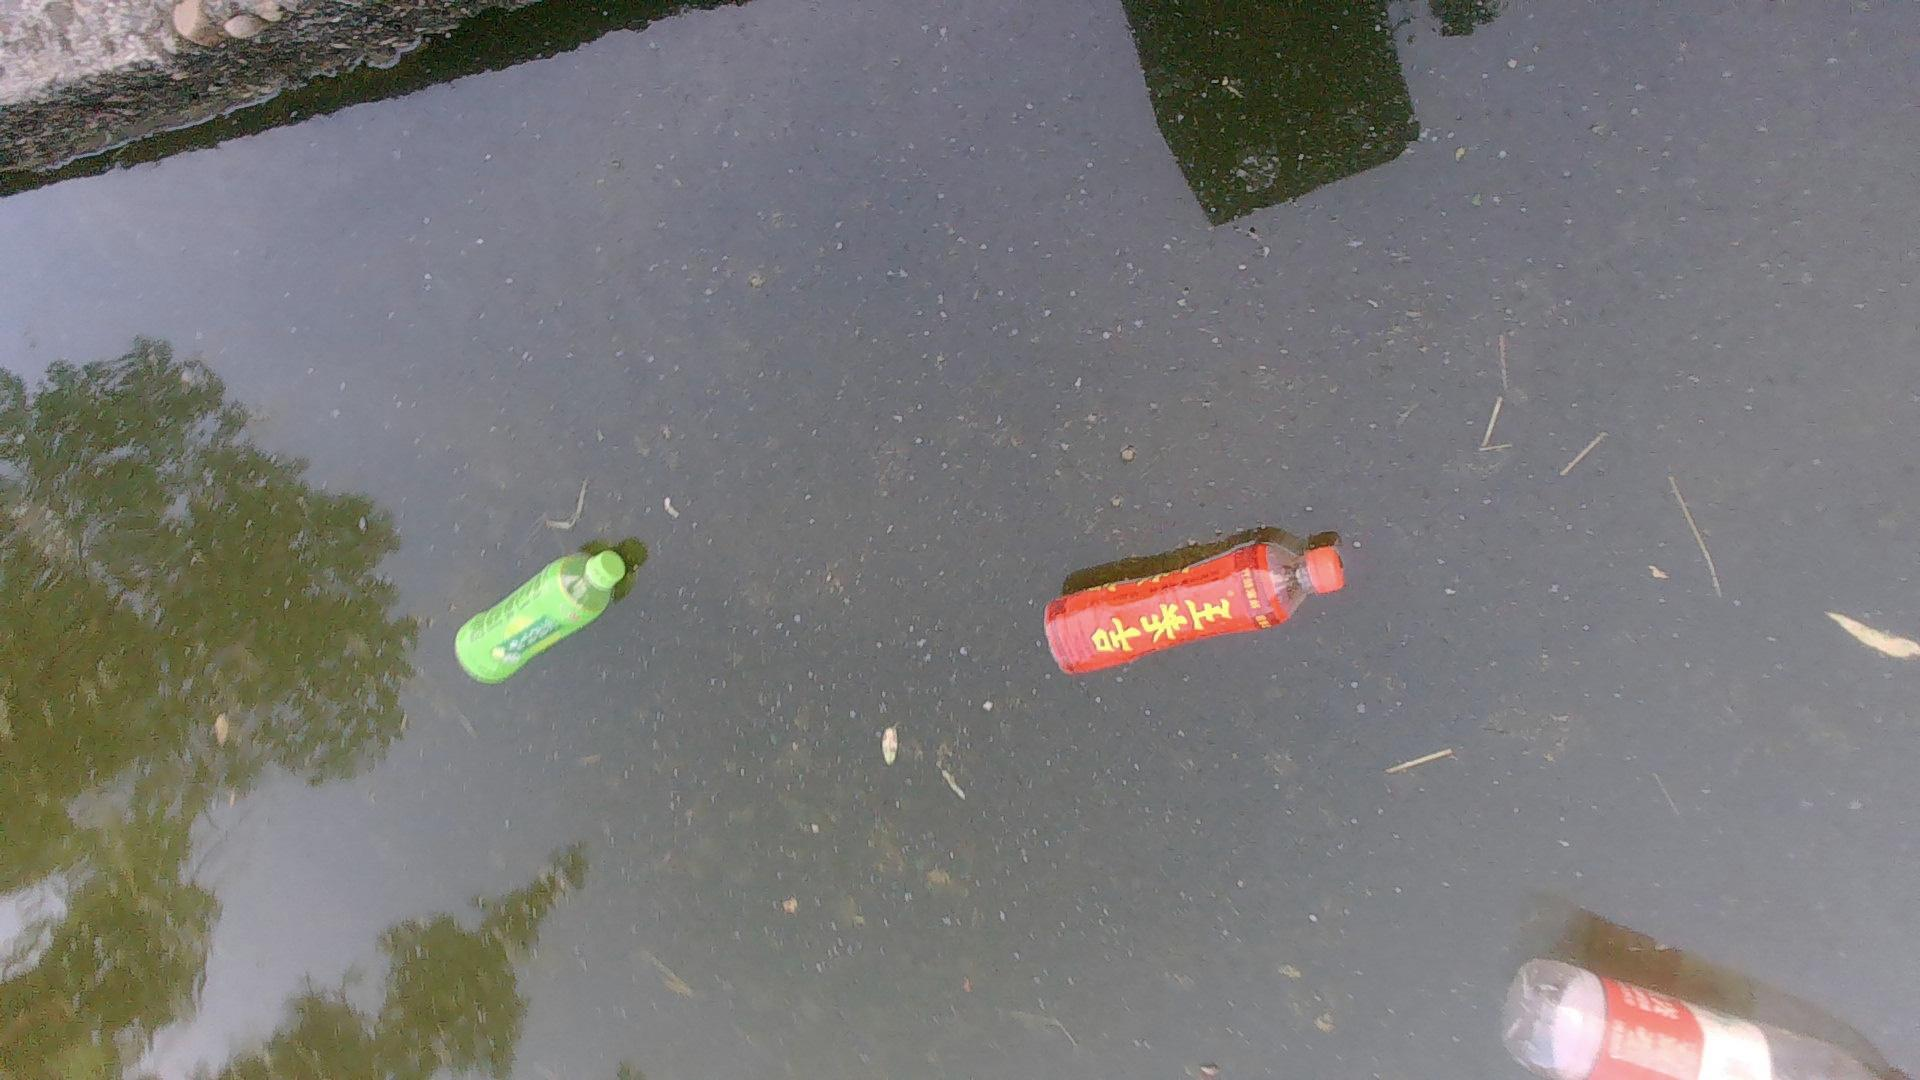Plastic: (1038, 525, 1348, 684), (1487, 956, 1907, 1071), (444, 537, 632, 694)
